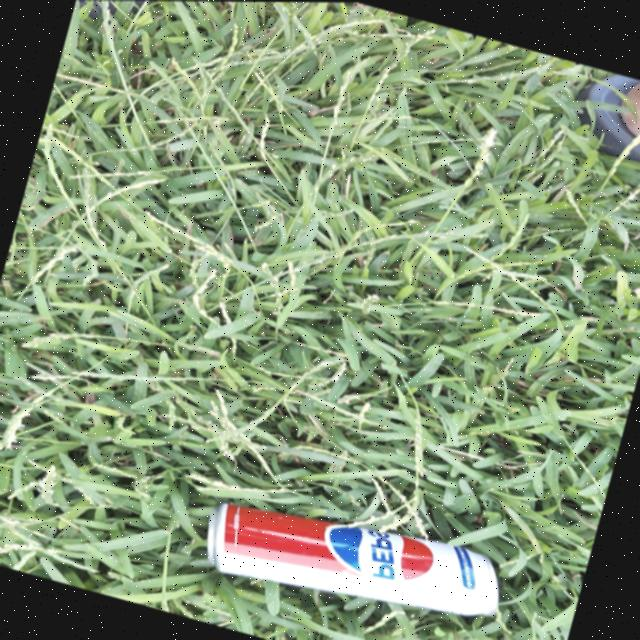Pepsi Retro: (190, 476, 516, 640)
